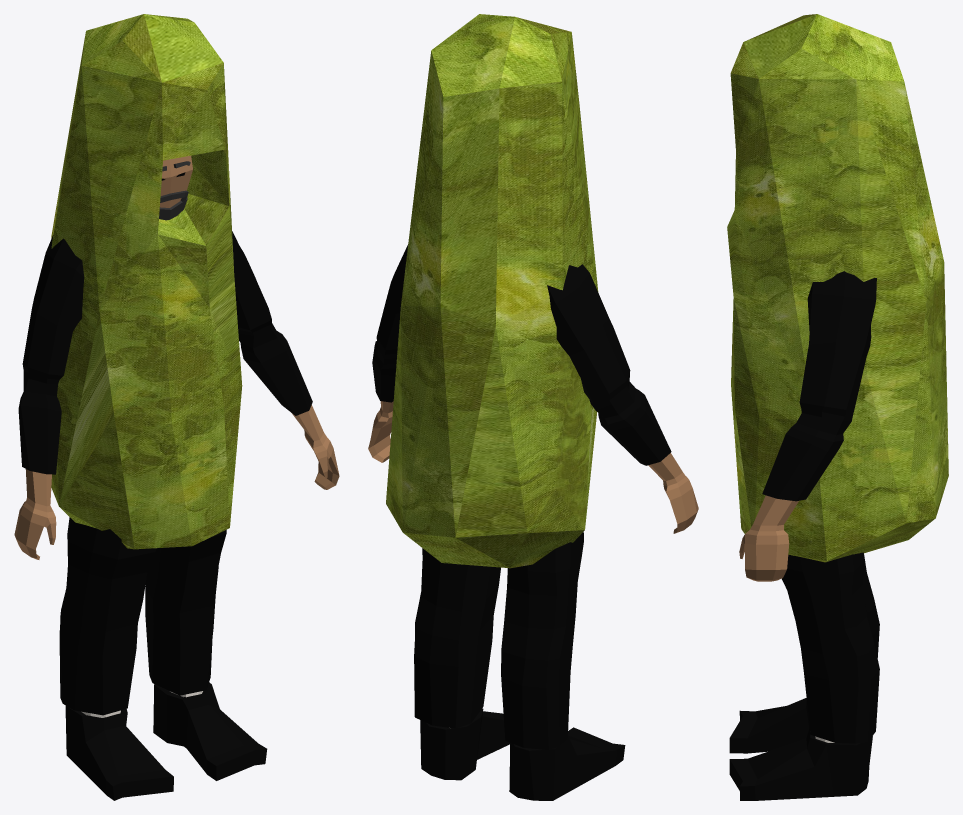
Rendered from LPC_Pickle_(srasmussen).fbx.
3 renders of one model, left to right at view 1: azimuth 30°, elevation 25°; view 2: azimuth 150°, elevation 25°; view 3: azimuth 270°, elevation 25°, orthographic.
Visible parts, largest first — view 1: LPC_Pickle; view 2: LPC_Pickle; view 3: LPC_Pickle.
Part boxes in pixels (box(x1,y1,x2,y2)): LPC_Pickle: box(14, 14, 339, 800); LPC_Pickle: box(368, 14, 698, 800); LPC_Pickle: box(727, 14, 948, 800).
Bounding box in the file's own units: 235 × 533 × 144.
2 materials, 2 textured.
